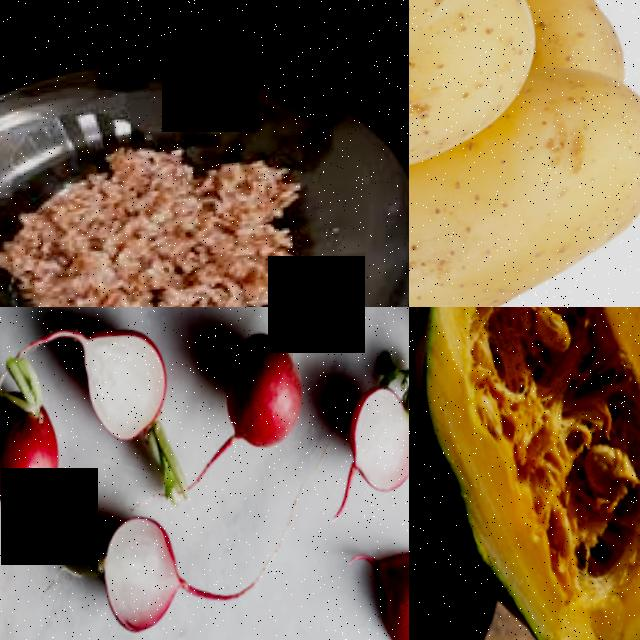potato: (409, 117, 640, 307), (409, 0, 567, 190)
pumpkin: (409, 307, 640, 640), (409, 307, 640, 640), (409, 307, 460, 640)
radishes: (70, 312, 203, 487), (89, 498, 216, 640), (209, 307, 331, 453), (0, 366, 88, 521), (339, 363, 409, 503), (357, 526, 409, 640)
